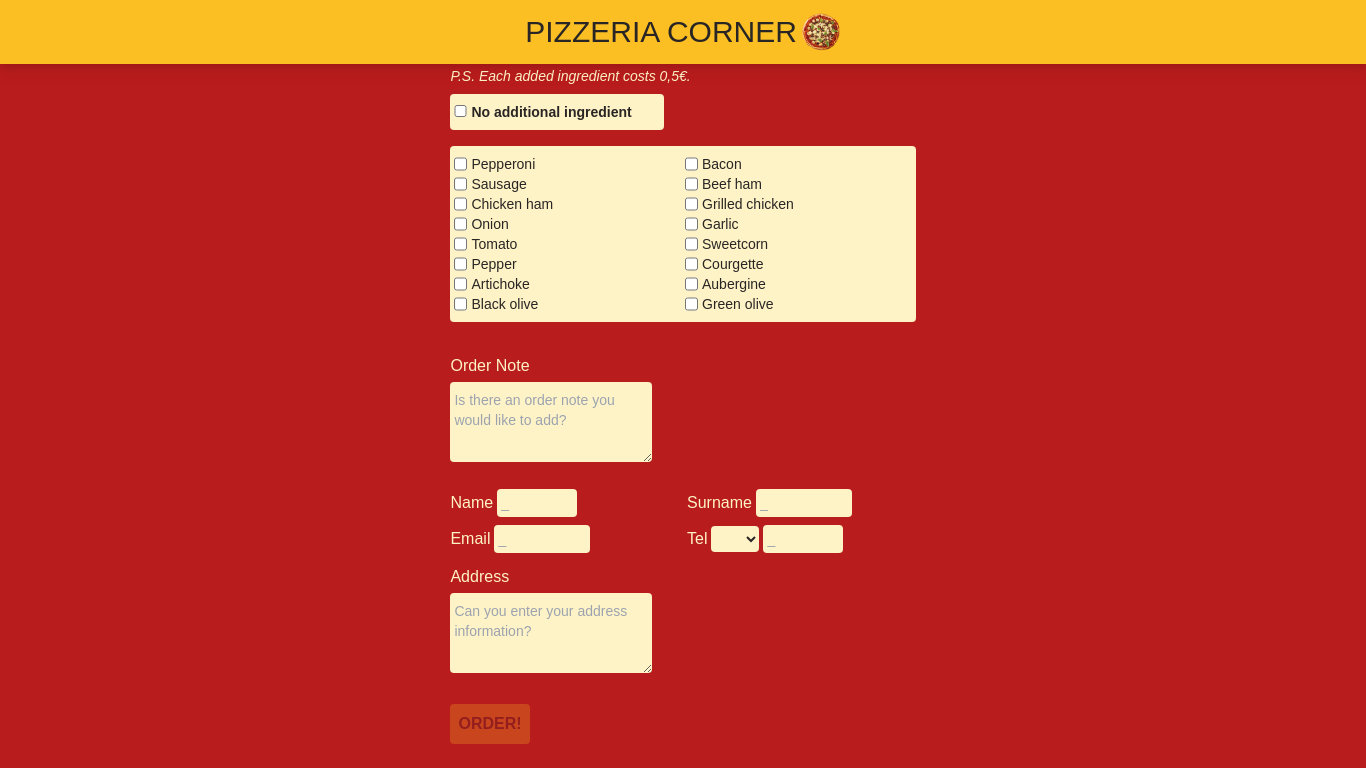
Test: Is the home page accessible? › Does the e-mail part work?
The width and height of the screenshot is (1366, 768).
(page scrolled)
Step 1. Type "kaganberberogmail.com" into the element with test id "e-mail" → (520, 539), box [450,525,590,553]
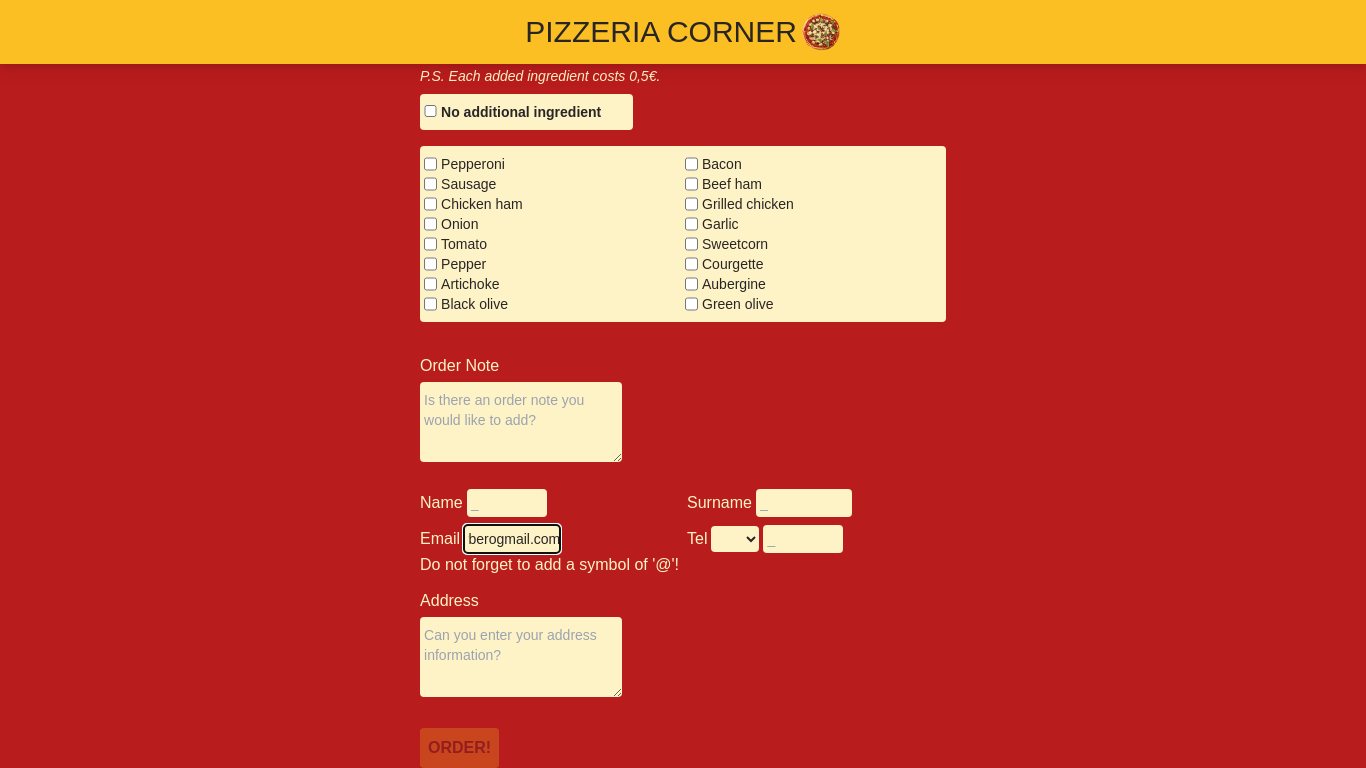
Result: the text with test id "e-mail" reads "Do not forget to add a symbol of '@'!" at [420,556,679,573]
Step 2. Clear the field named "emailAddress" → (512, 539), box [464,525,560,553]
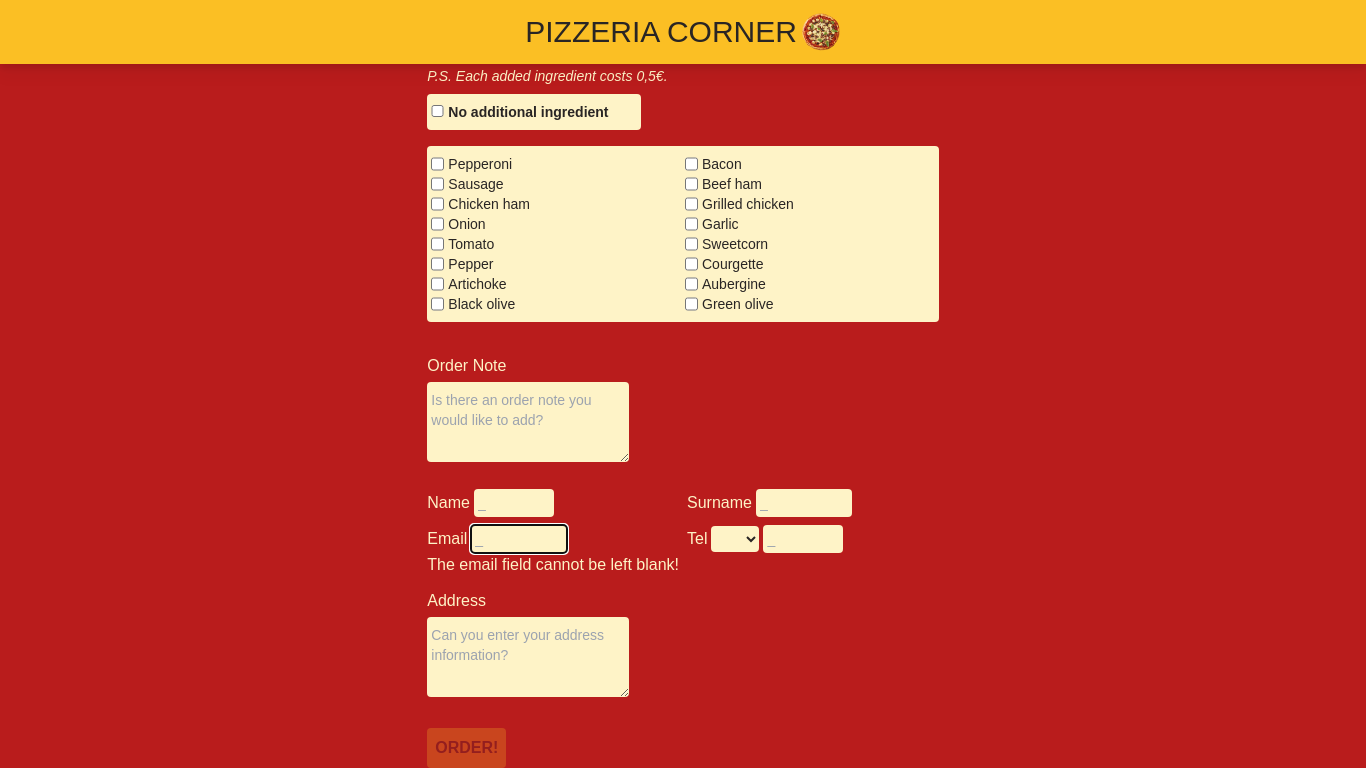
Result: the text with test id "e-mail" reads "The email field cannot be left blank!" at [427,556,679,573]
